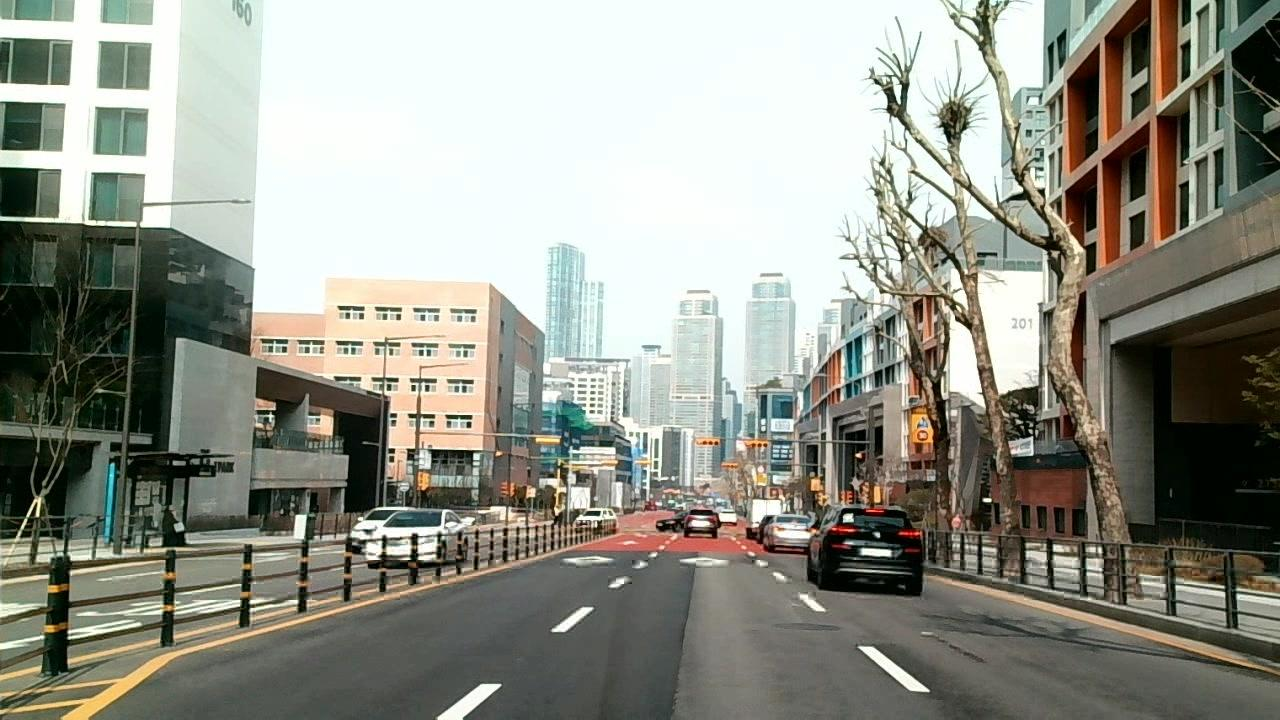banner: (922, 633, 989, 666)
